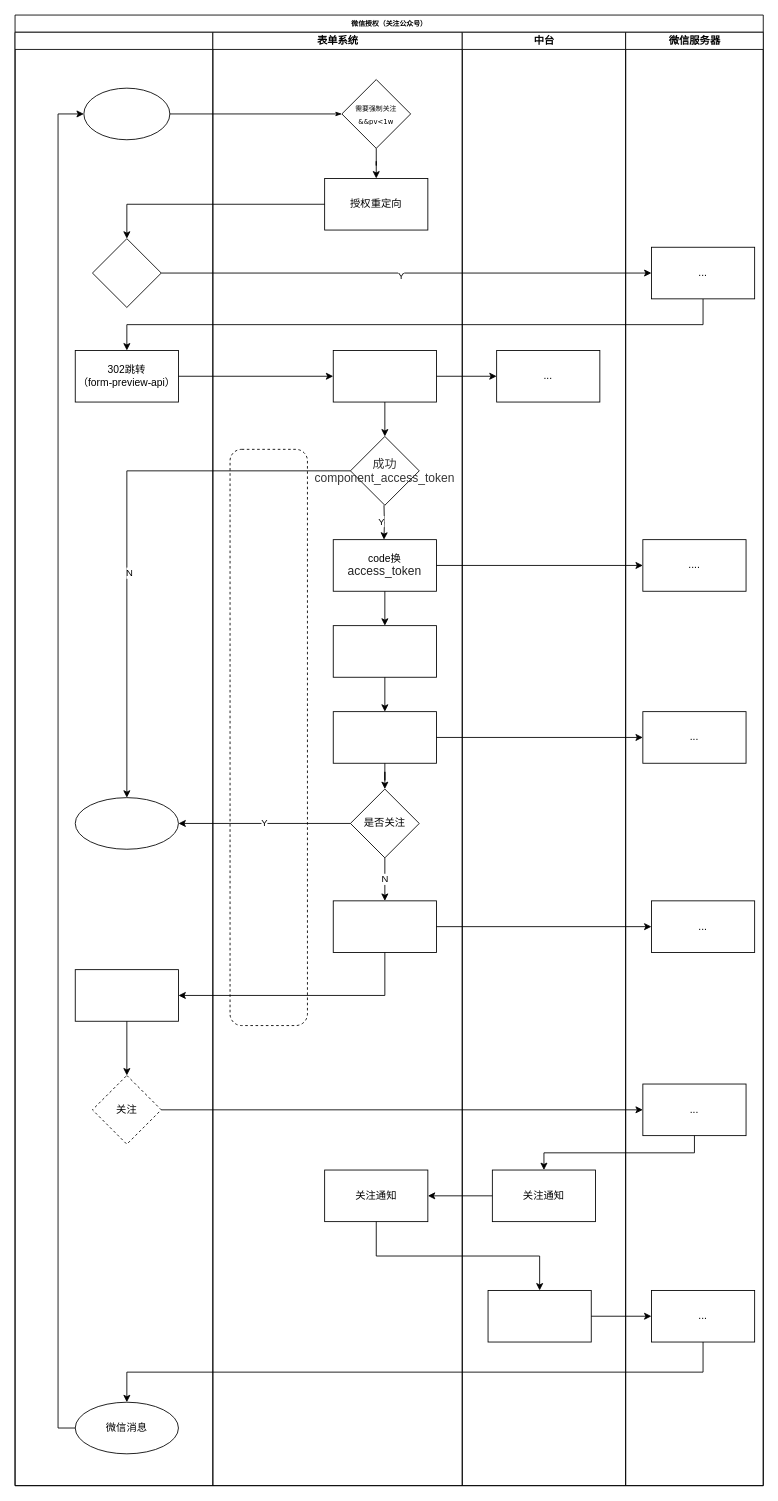
This 778x1501 diagram has some shape labels left out. The box of each missing label's shape, as (x1, y1, x2, y2) in pixels:
access_token openId: (332, 625, 436, 677)
分享页: (83, 87, 170, 140)
展示二维码 （wxSubscribeQR）: (74, 969, 178, 1021)
推送消息: (487, 1290, 591, 1342)
正常展示: (74, 797, 178, 849)
状态存入session 302跳转: (229, 448, 307, 1026)
生成关注二维码: (332, 900, 436, 952)
用户(浏览器): (14, 31, 213, 1486)
获取 component_access_token: (332, 350, 436, 402)
获取用户信息 user/info: (332, 711, 436, 763)
静默同意授权: (92, 238, 161, 307)
